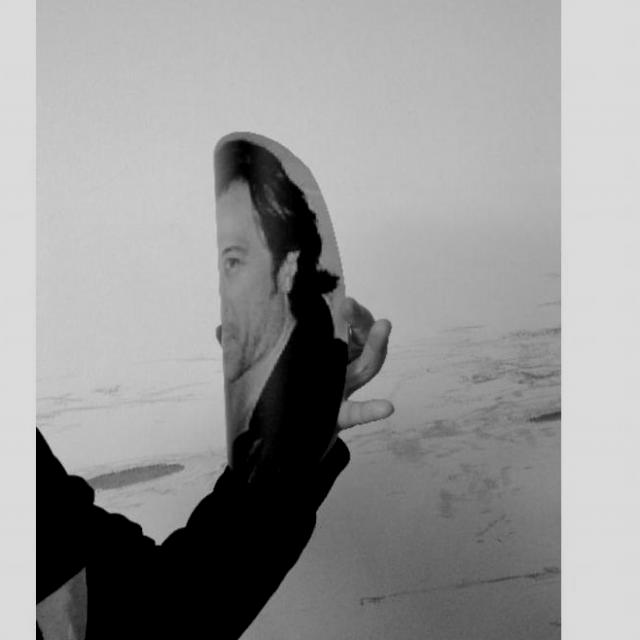fake: (202, 126, 405, 496)
